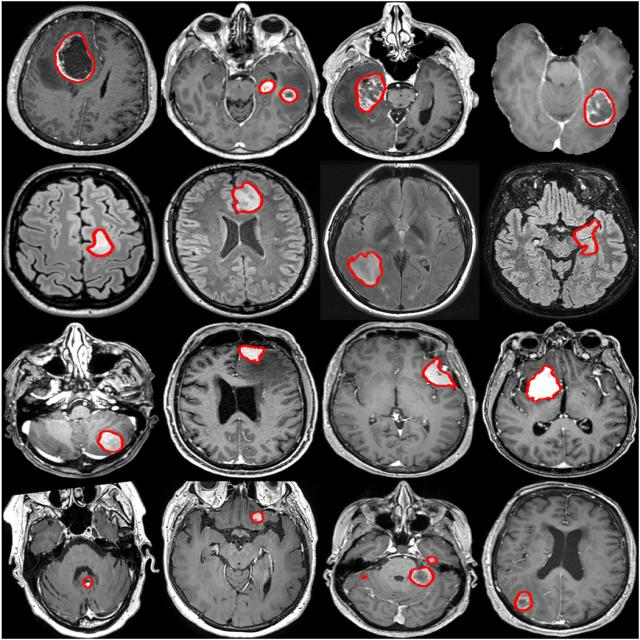Tumor: (61, 36, 97, 80), (345, 252, 384, 285), (426, 358, 457, 389), (528, 366, 558, 398), (574, 217, 599, 255), (587, 89, 613, 123), (355, 78, 382, 110), (231, 183, 260, 212), (93, 433, 126, 452), (93, 231, 114, 257), (243, 344, 266, 365), (513, 591, 532, 610), (408, 571, 434, 583), (79, 578, 100, 590), (284, 88, 298, 102), (428, 553, 441, 565), (252, 512, 264, 524), (262, 83, 272, 92), (362, 575, 372, 582)
